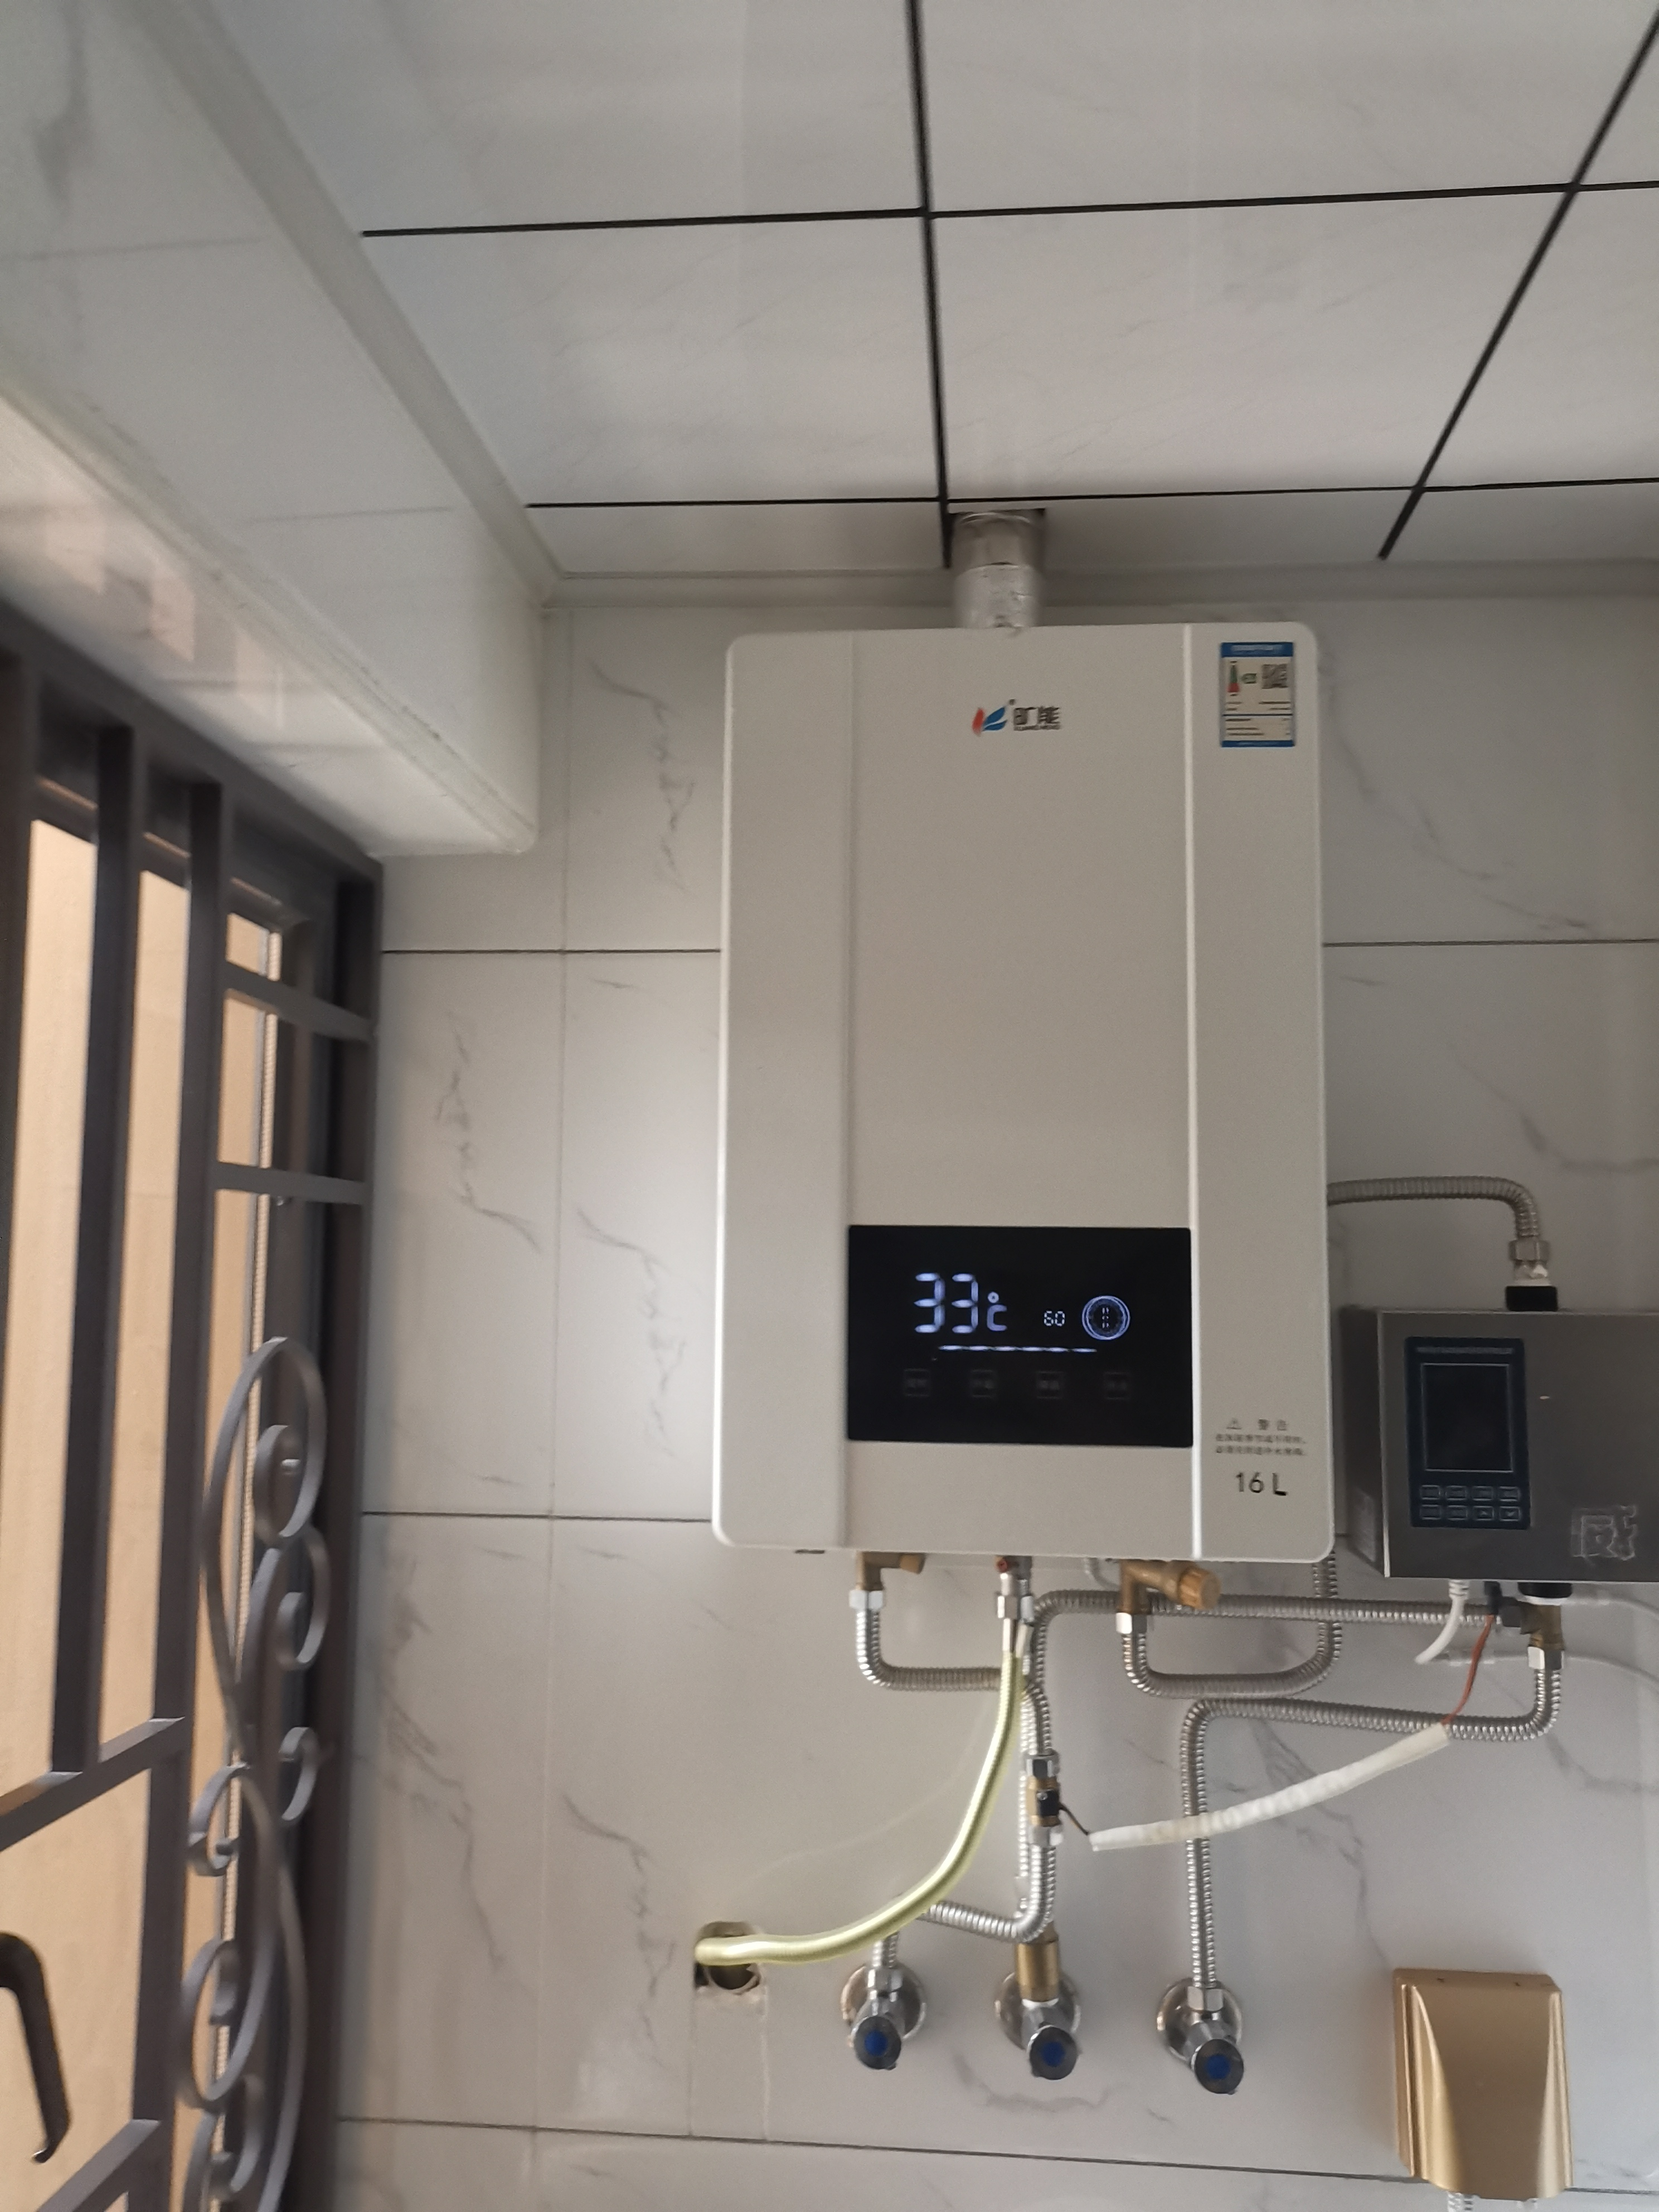loudou: (958, 690, 1086, 744)
